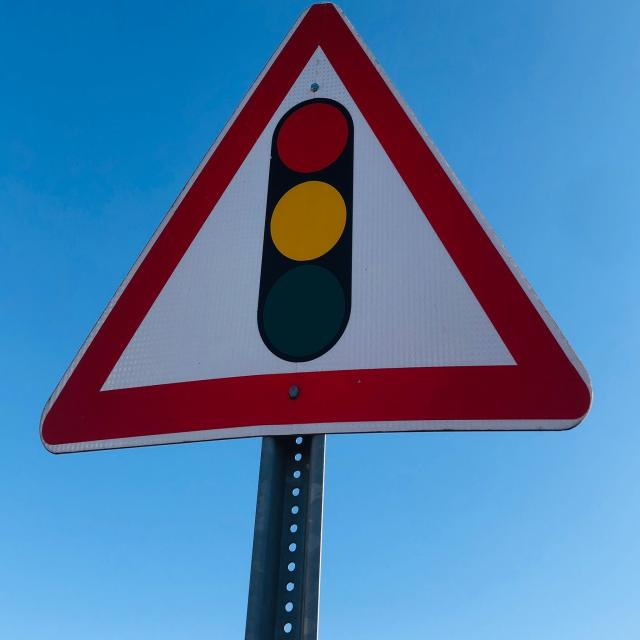light_traffic: (39, 4, 592, 457)
